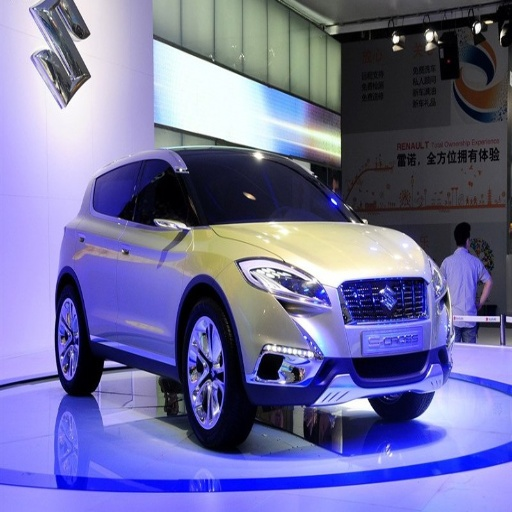front_bumper: (233, 271, 450, 407)
front_right_door: (119, 163, 189, 354)
front_right_light: (239, 258, 330, 309)
